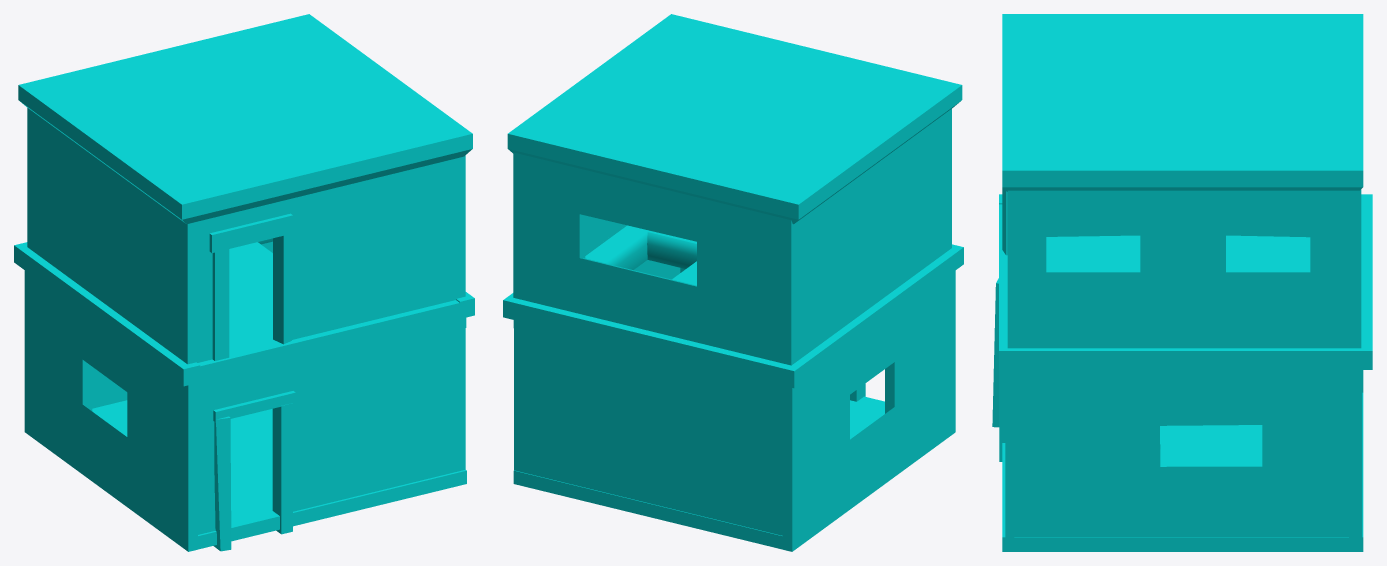
File: SM_Bld_Building_08_Collision.fbx
3 renders of one model, left to right at view 1: azimuth 30°, elevation 25°; view 2: azimuth 150°, elevation 25°; view 3: azimuth 270°, elevation 25°, orthographic. The views are drawn at different scales.
Parts seen in each view (by area): view 1: SM_Bld_Building_08_Collision; view 2: SM_Bld_Building_08_Collision; view 3: SM_Bld_Building_08_Collision.
Boxes of the visible parts, x1,y1,x2,y2 form: SM_Bld_Building_08_Collision: (14, 14, 474, 551); SM_Bld_Building_08_Collision: (503, 14, 963, 551); SM_Bld_Building_08_Collision: (992, 14, 1372, 551).
Size of the model in its own units: 537 by 621 by 550.
